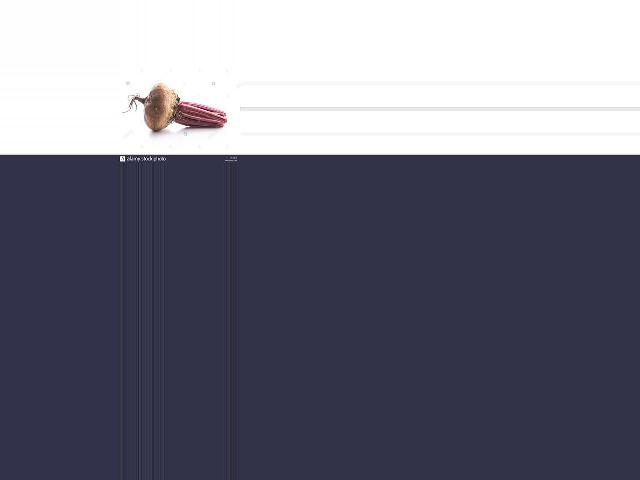beet: (122, 83, 227, 131)
